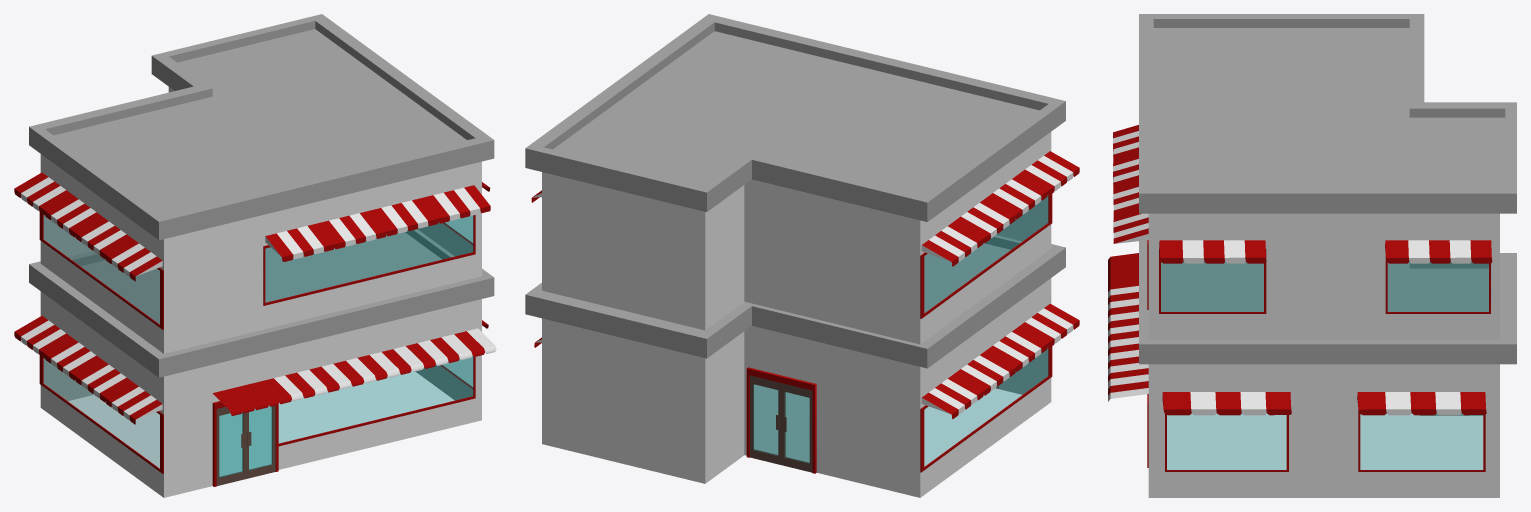
File: Building_CafeTwoStory_Mod_01 (1).fbx
3 renders of one model, left to right at view 1: azimuth 30°, elevation 25°; view 2: azimuth 150°, elevation 25°; view 3: azimuth 270°, elevation 25°, orthographic. The views are drawn at different scales.
Visible parts, largest first — view 1: Building20, Building21, Shade8, Shade14, Shade9, Shade16, Door23, Door22; view 2: Building20, Building21, Shade9, Shade16, Door24, Door25; view 3: Building20, Building21, Shade8, Shade14, Shade10, Shade15, Shade13, Shade12.
Boxes of the visible parts, box(x1,y1,x2,y2) form: Building20: box(29, 14, 494, 353); Building21: box(29, 229, 494, 497); Shade8: box(212, 328, 496, 415); Shade14: box(265, 185, 490, 261); Shade9: box(14, 316, 162, 424); Shade16: box(14, 172, 162, 281); Door23: box(216, 407, 245, 485); Door22: box(246, 405, 275, 478); Building20: box(525, 14, 1065, 344); Building21: box(525, 235, 1065, 497); Shade9: box(921, 303, 1079, 418); Shade16: box(921, 151, 1079, 266); Door24: box(781, 383, 812, 472); Door25: box(750, 375, 781, 464); Building20: box(1139, 14, 1516, 339); Building21: box(1139, 240, 1516, 497); Shade8: box(1108, 253, 1148, 401); Shade14: box(1113, 125, 1148, 243); Shade10: box(1162, 392, 1291, 415); Shade15: box(1357, 392, 1486, 415); Shade13: box(1385, 240, 1492, 263); Shade12: box(1159, 240, 1266, 263).
Size of the model in its own units: 10.37 by 7.76 by 9.31.
